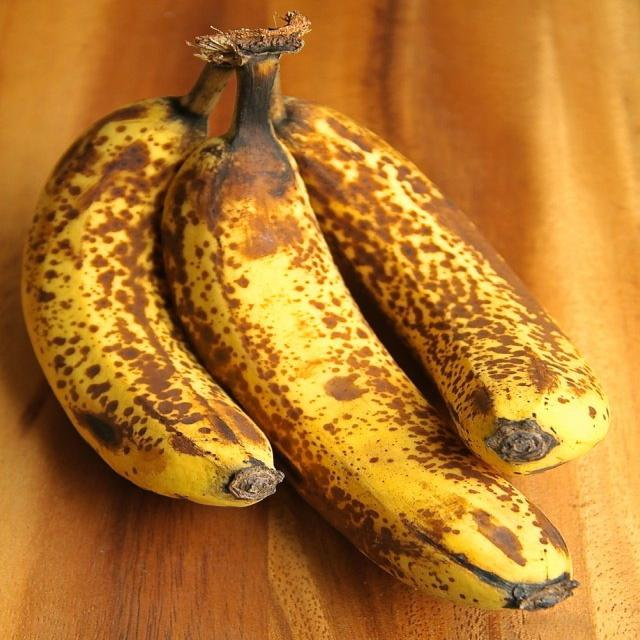unpeal banana: (162, 42, 575, 609), (274, 98, 608, 474), (22, 65, 281, 505)
